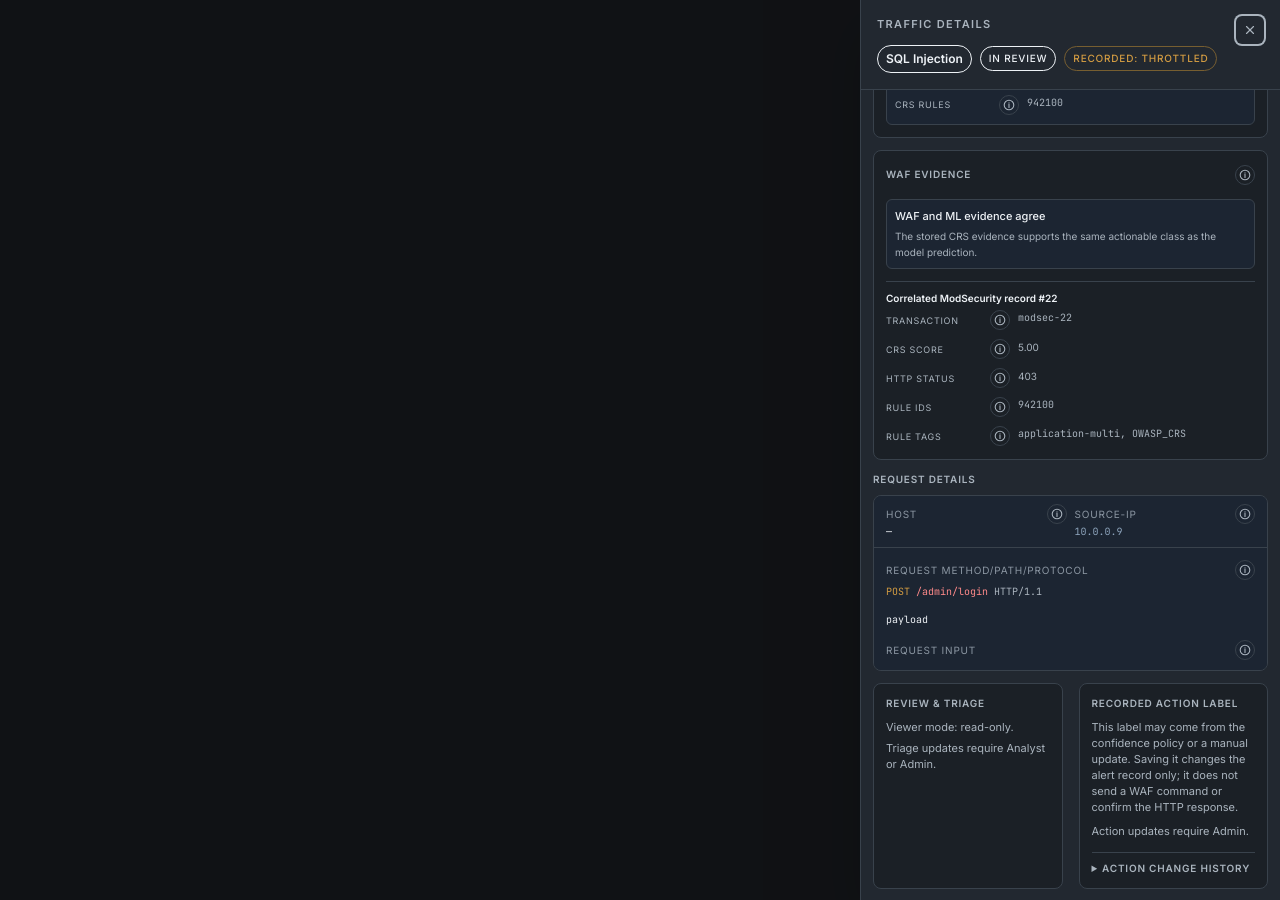
Test: AlertDrawer › loads and displays detail-only correlation, response, relationship, and action history fields
The width and height of the screenshot is (1280, 900).
(page scrolled)
Expected: the text "WAF and ML evidence agree" is shown, x1=895 y1=208 x2=1045 y2=222
Expected: the number of buttons named "About Rule IDs" is 2, x1=999 y1=94 x2=1019 y2=114; x1=990 y1=397 x2=1010 y2=417
Click the heading "Action change history" at (1173, 868), box x1=1092 y1=860 x2=1255 y2=876
(page scrolled)
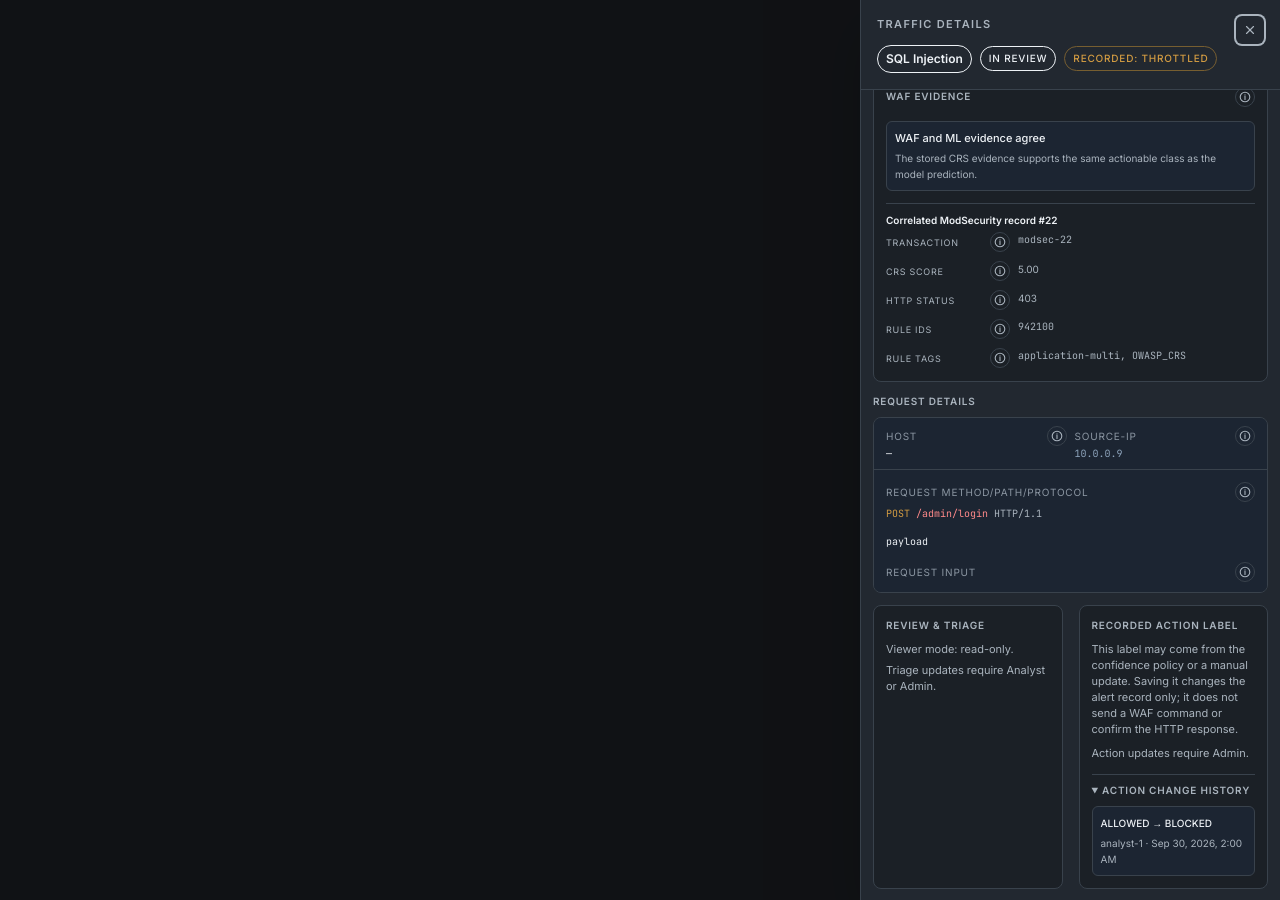
Expected: the text "ALLOWED → BLOCKED" is shown, x1=1100 y1=816 x2=1212 y2=828
Expected: the text "analyst-1 · Sep 30, 2026, 2:00 AM" is shown, x1=1100 y1=834 x2=1246 y2=866
